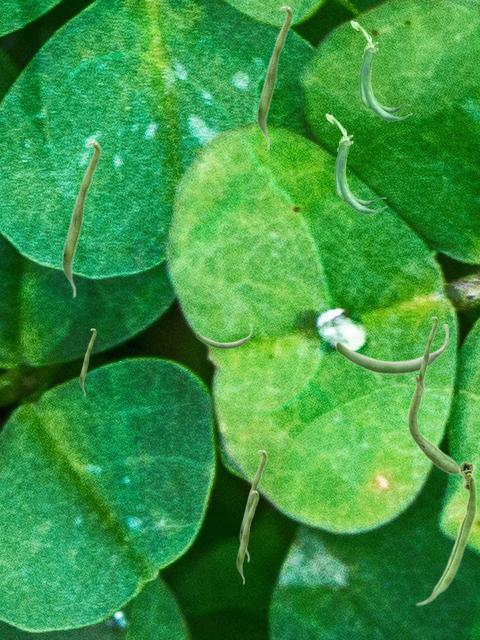french_bean: (415, 460, 476, 605), (61, 140, 100, 298), (350, 20, 411, 120), (325, 113, 386, 213), (335, 324, 448, 374), (256, 5, 292, 150), (407, 374, 458, 474), (239, 449, 266, 562), (236, 490, 258, 584), (418, 316, 437, 397), (196, 324, 251, 348), (79, 328, 95, 396)
